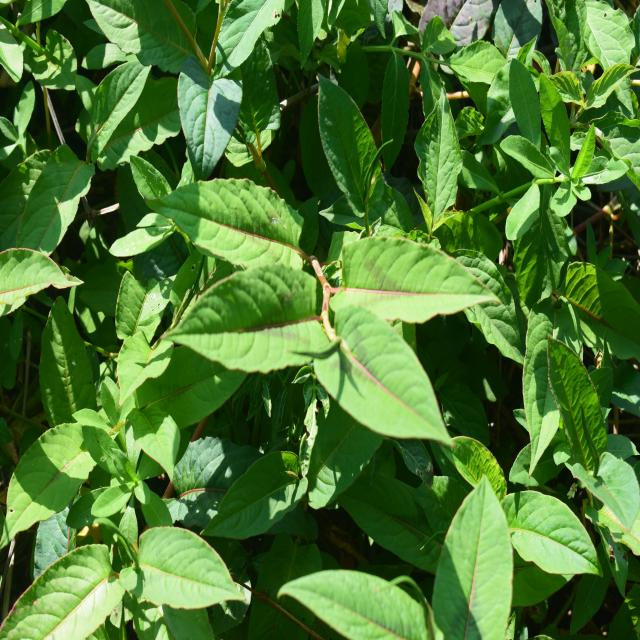Chinese_knotweed: (170, 177, 480, 453)
